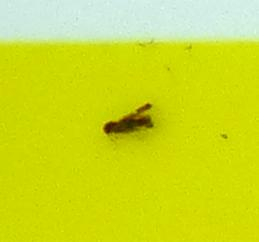Hemiptera: (100, 100, 159, 142)
